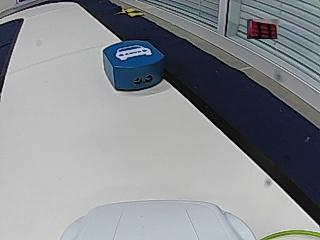safety: (115, 45, 152, 60)
